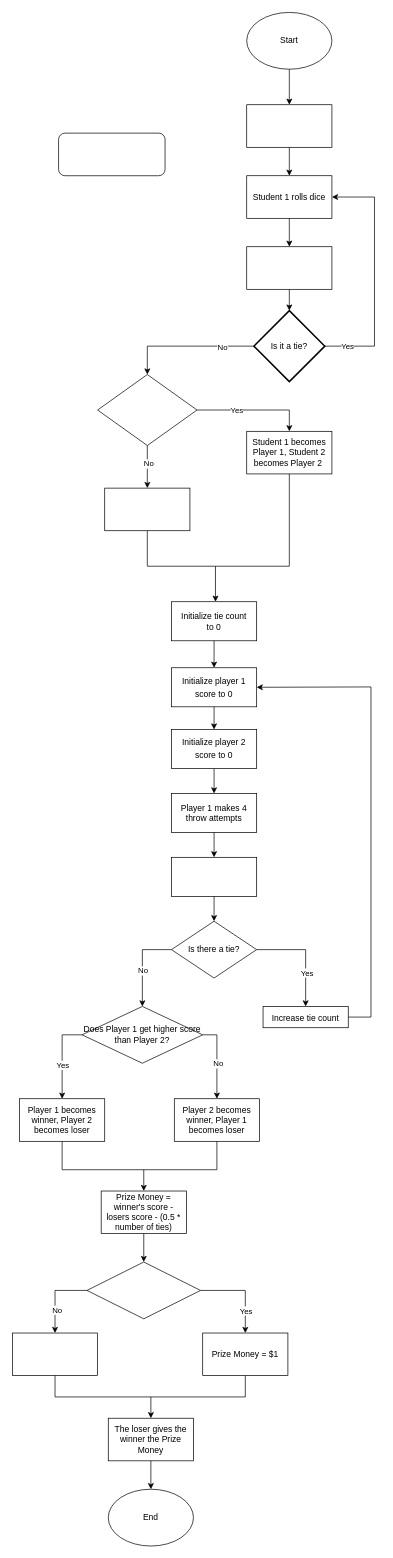
The diagram is 393 pixels wide and 1558 high, and some of its shapes have lost their labels. Here are the shapes that lost their labels. From the top down, the centre of each, then its label:
At point (289, 125): "Declare Student 1 and Student 2".
At point (111, 154): "Group 5 4 Elmar Jafarli 5 Hanlun Wang 6 Hiran Tiago Lins Borba".
At point (289, 267): "Student 2 rolls dice".
At point (147, 410): "Does Student 1 get the lowest number?".
At point (147, 509): "Student 2 becomes Player 1, Student 1 becomes Player 2".
At point (214, 876): "Player 2 makes 4 throw attempts".
At point (143, 1290): "Is Prize Money less than 0?".
At point (55, 1354): "Round the amount of Prize Money up to the nearest whole number".
